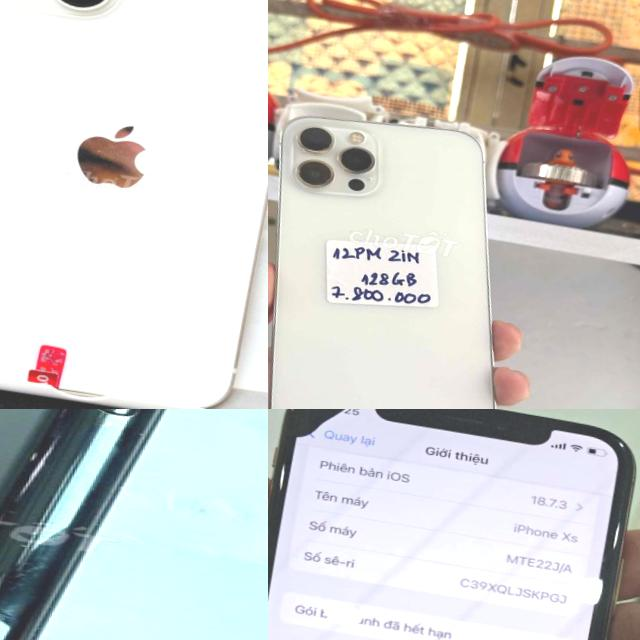gen_12_13: (0, 0, 268, 409), (268, 96, 546, 409)
gen_x_xs: (268, 409, 640, 640)
scratch: (0, 409, 268, 640)
screen_defect: (268, 409, 377, 461)
